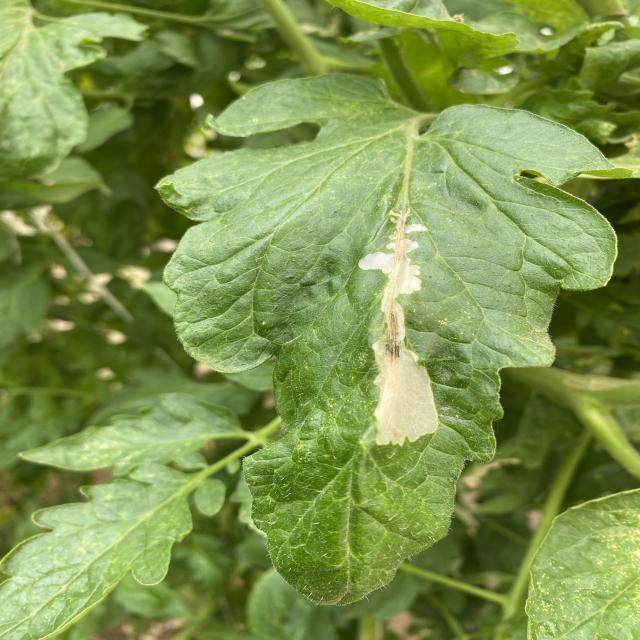Tuta absoluta: (354, 207, 444, 446)
